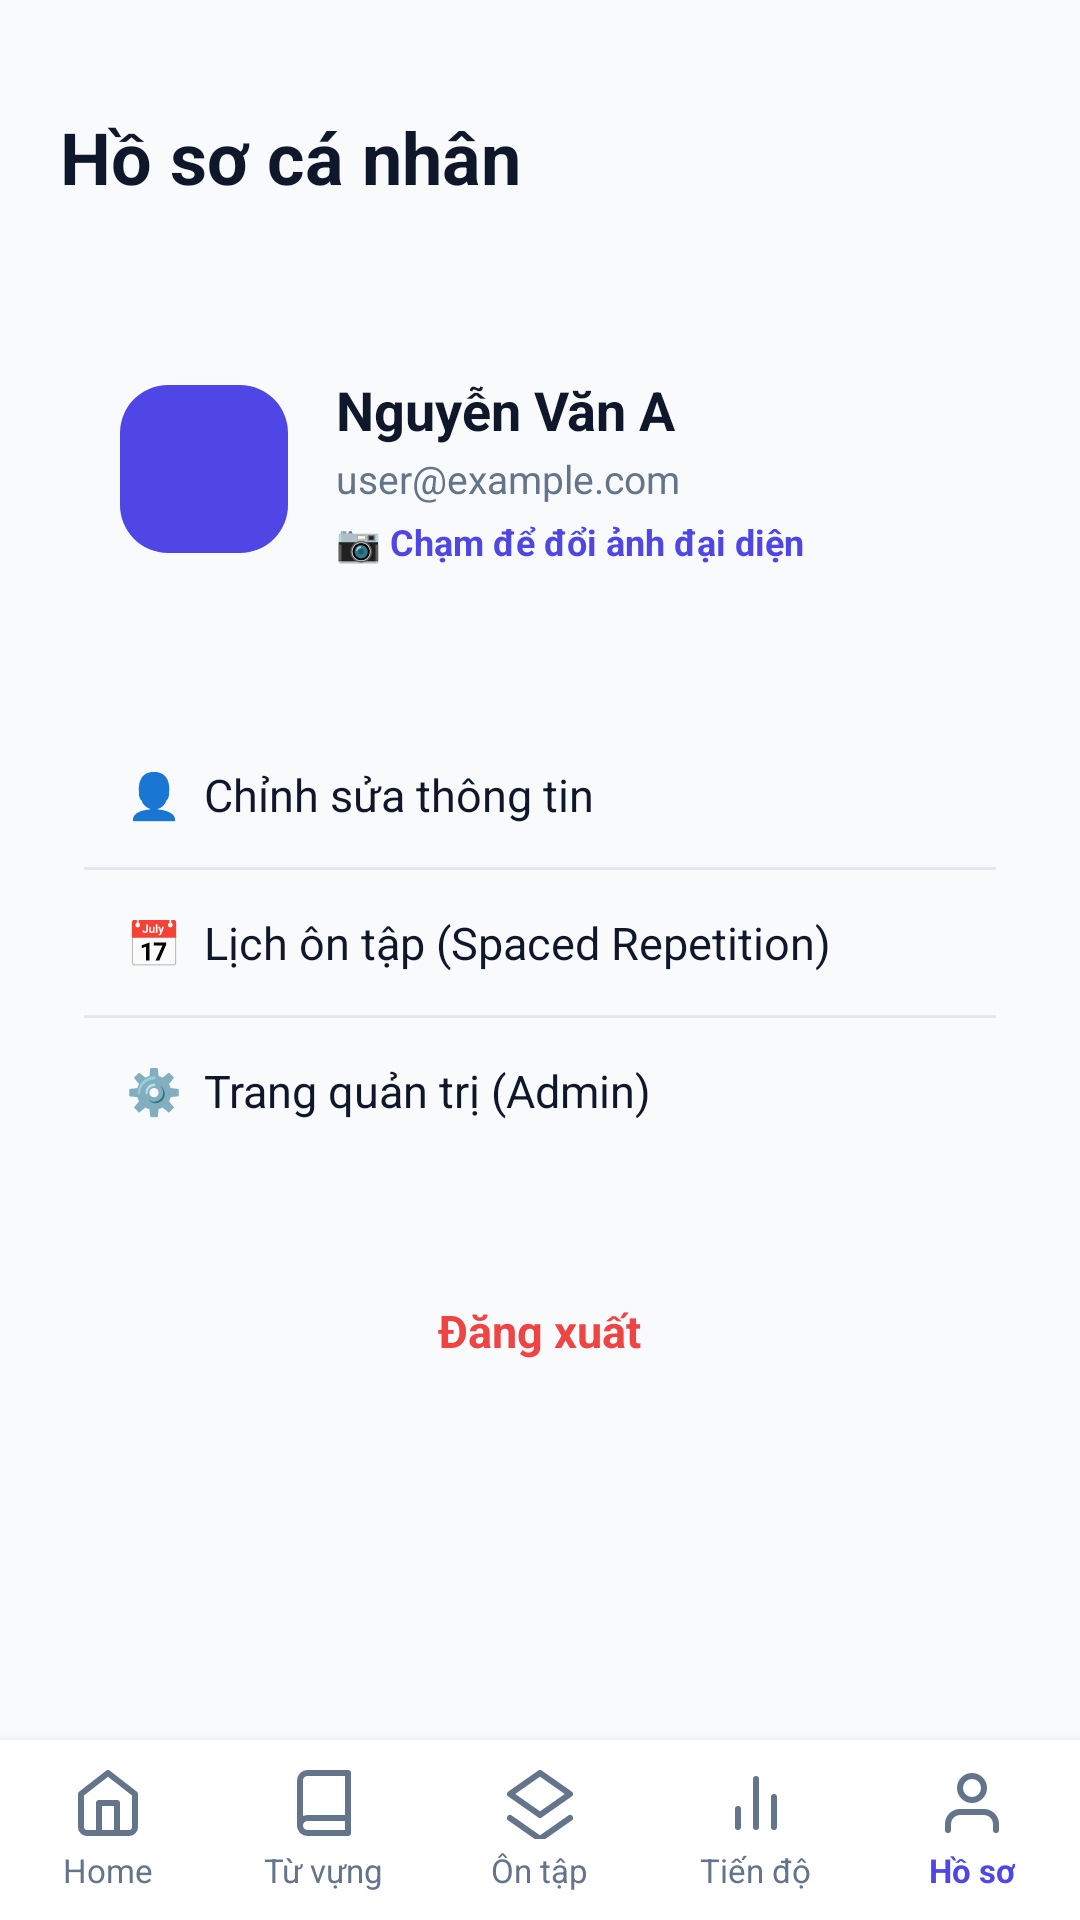

Icons on this 1080 × 1920 Android screen, each with its box as {"left": x1, "top": y1, "right": x2, "bottom": y2}:
flashcard: {"left": 507, "top": 1770, "right": 573, "bottom": 1839}
